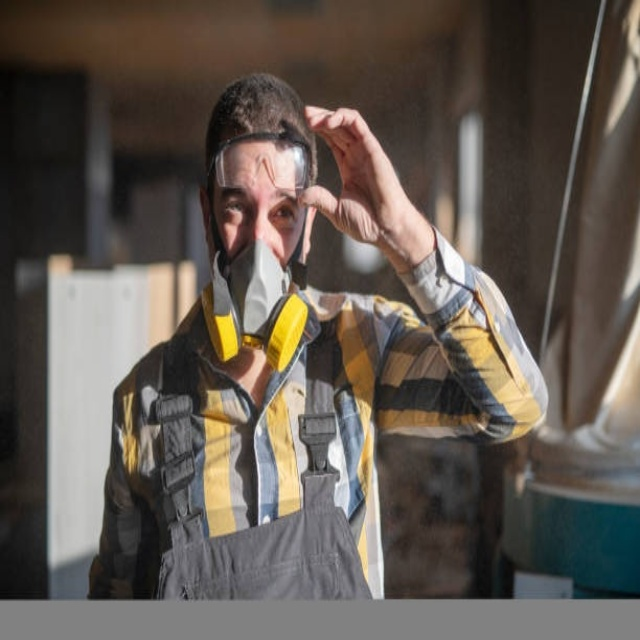Mascara: (223, 236, 292, 345)
Sin_gafas: (222, 191, 292, 224)
Sin_guantes: (294, 102, 414, 255)
